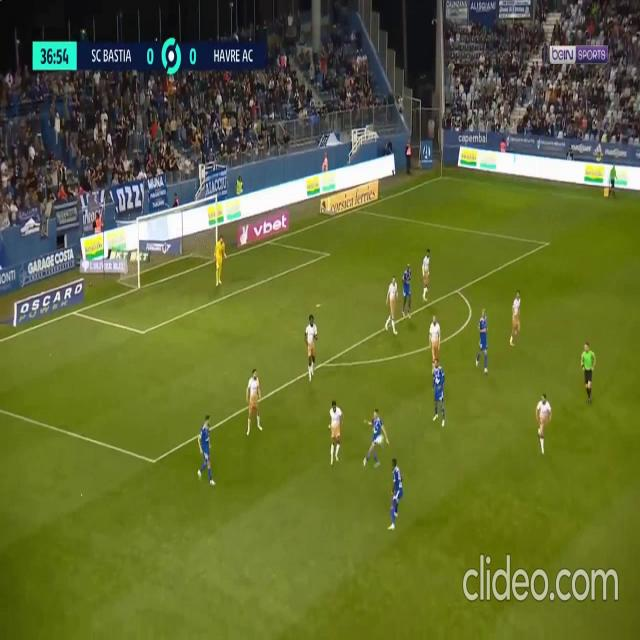goalkeeper: (213, 234, 226, 288)
player: (360, 409, 387, 469), (196, 415, 215, 485), (387, 458, 403, 532), (246, 368, 263, 436), (535, 392, 551, 456), (475, 310, 490, 374), (328, 398, 342, 466), (432, 360, 446, 426), (305, 314, 318, 379), (384, 278, 399, 334), (510, 290, 521, 346), (430, 316, 441, 367), (402, 265, 413, 316), (214, 237, 225, 287), (421, 249, 431, 300), (605, 162, 617, 197)
referee: (581, 342, 595, 404), (605, 162, 617, 199)
